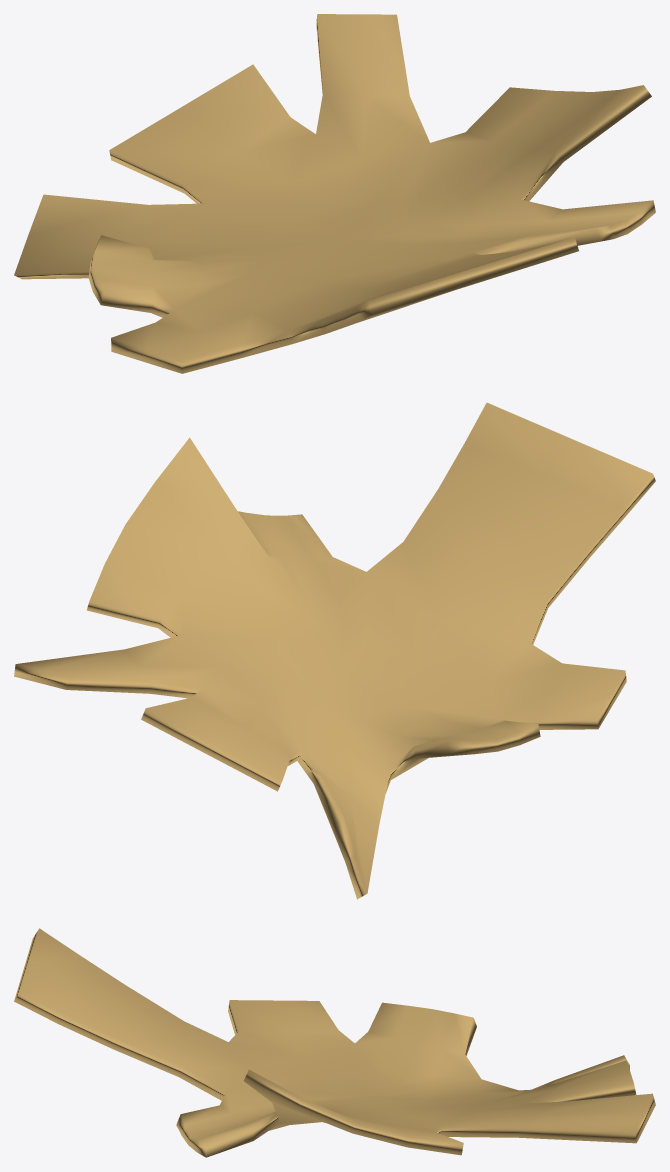
3 views of the same model, one above another, from view 1: azimuth 30°, elevation 25°; view 2: azimuth 150°, elevation 25°; view 3: azimuth 270°, elevation 25° (orthographic). The views are drawn at different scales.
Visible parts, largest first — view 1: 右侧腕辐状韧带; view 2: 右侧腕辐状韧带; view 3: 右侧腕辐状韧带.
Boxes of the visible parts, left/top/right/bottom form: 右侧腕辐状韧带: left=14, top=14, right=655, bottom=373; 右侧腕辐状韧带: left=14, top=402, right=655, bottom=899; 右侧腕辐状韧带: left=14, top=928, right=655, bottom=1157.
Bounding box in the file's own units: 0.0296 × 0.0142 × 0.037.
